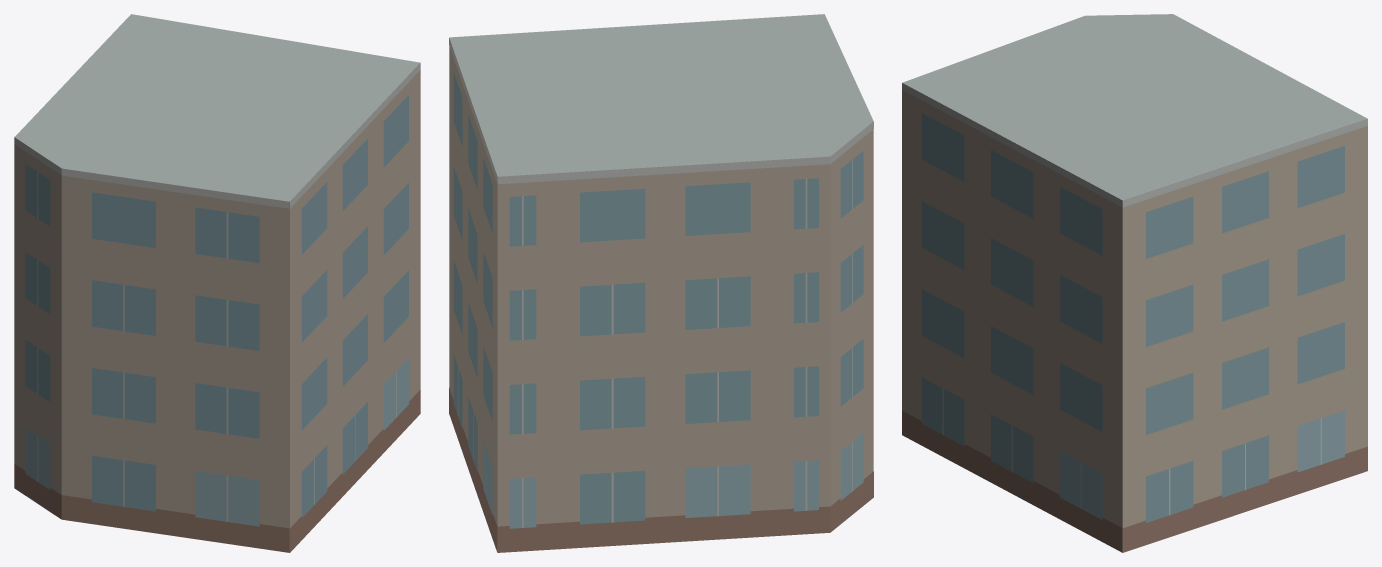
The model's file is survey-upis-33011145.glb.
3 renders of one model, left to right at view 1: azimuth 30°, elevation 25°; view 2: azimuth 150°, elevation 25°; view 3: azimuth 270°, elevation 25°, orthographic. The views are drawn at different scales.
Visible parts, largest first — view 1: survey-upis-33011145.tmp; view 2: survey-upis-33011145.tmp; view 3: survey-upis-33011145.tmp.
Boxes of the visible parts, left/top/right/bottom form: survey-upis-33011145.tmp: left=14, top=14, right=420, bottom=552; survey-upis-33011145.tmp: left=449, top=14, right=873, bottom=552; survey-upis-33011145.tmp: left=902, top=14, right=1367, bottom=552.
Size of the model in its own units: 13.86 by 12.2 by 14.62.
